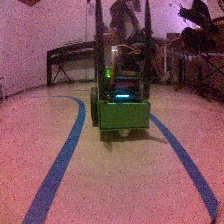rob: (89, 48, 151, 138)
